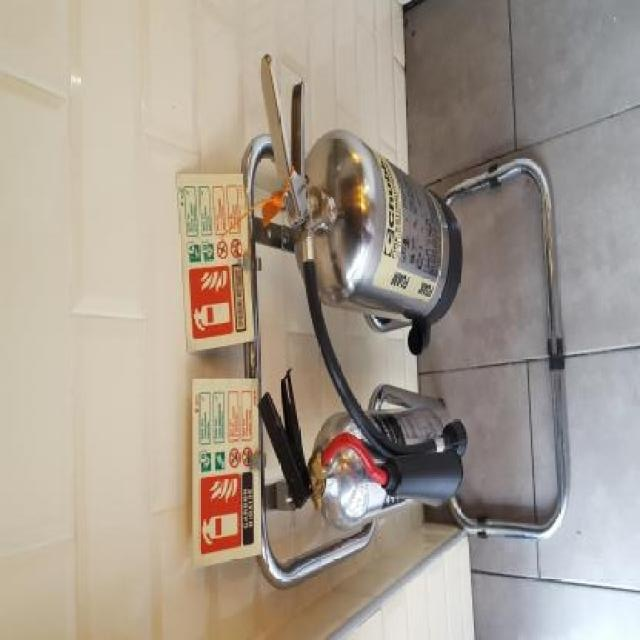fire extinguisher: (258, 55, 450, 322), (257, 367, 468, 535)
